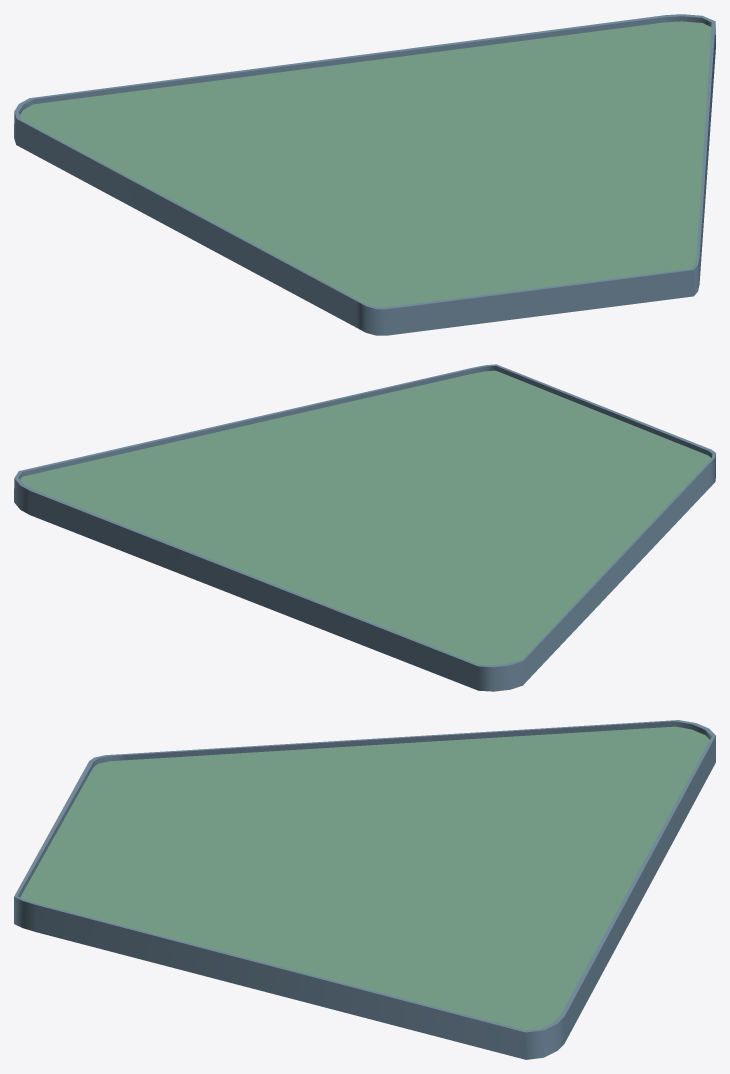
The model's file is TreePot_Triangle.fbx.
3 renders of one model, top to bottom at view 1: azimuth 30°, elevation 25°; view 2: azimuth 150°, elevation 25°; view 3: azimuth 270°, elevation 25°, orthographic. The views are drawn at different scales.
Visible parts, largest first — view 1: TreePot_Triangle; view 2: TreePot_Triangle; view 3: TreePot_Triangle.
Part boxes in pixels (box(x1,y1,x2,y2)): TreePot_Triangle: box(14, 14, 715, 335); TreePot_Triangle: box(14, 364, 715, 691); TreePot_Triangle: box(14, 720, 715, 1059).
Bounding box in the file's own units: 1093 × 44.21 × 1037.
